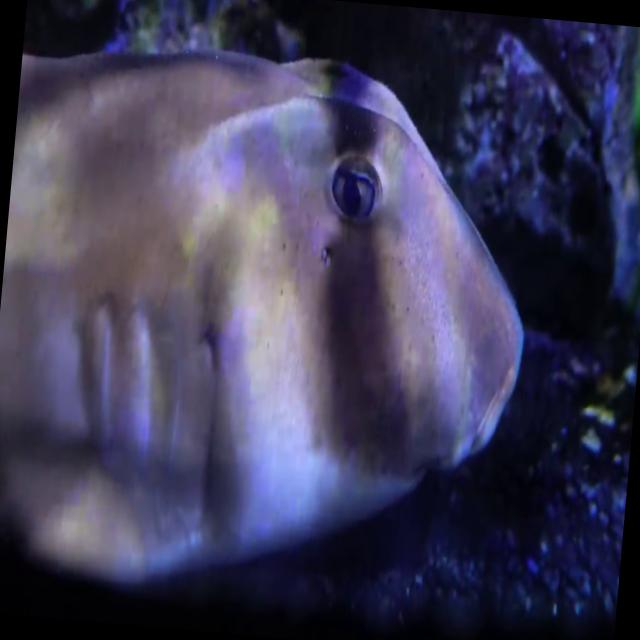fish: (0, 16, 547, 613)
